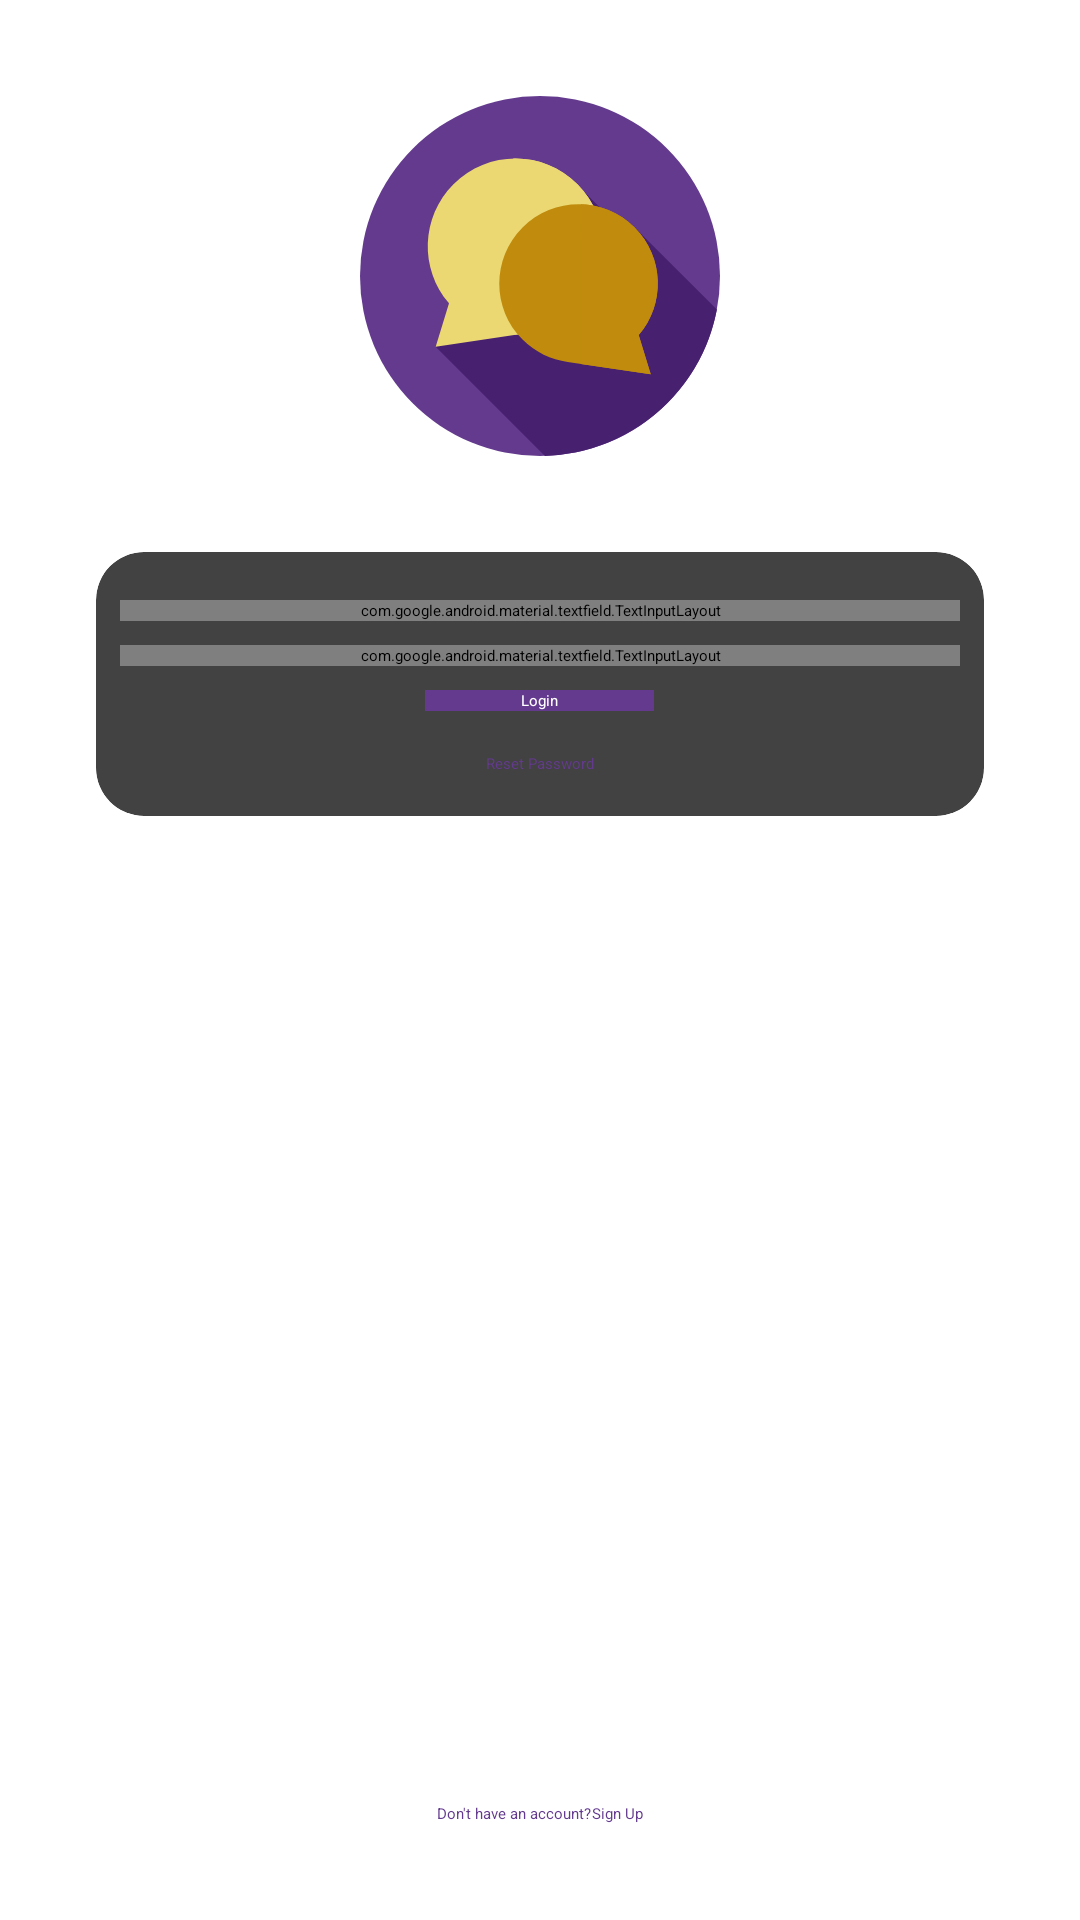

Point at icon controls on the screen. Image size 1080×1920, points as [x,y].
chat bubble: [540,276]
